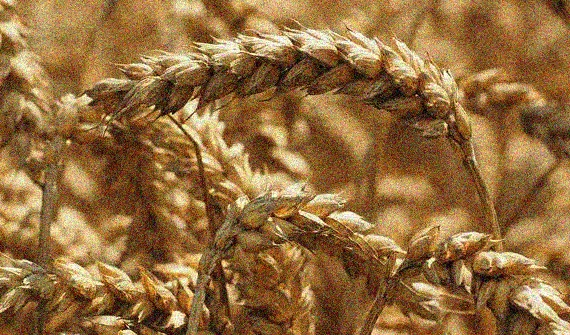wheat: (203, 185, 570, 335), (63, 23, 474, 156)
